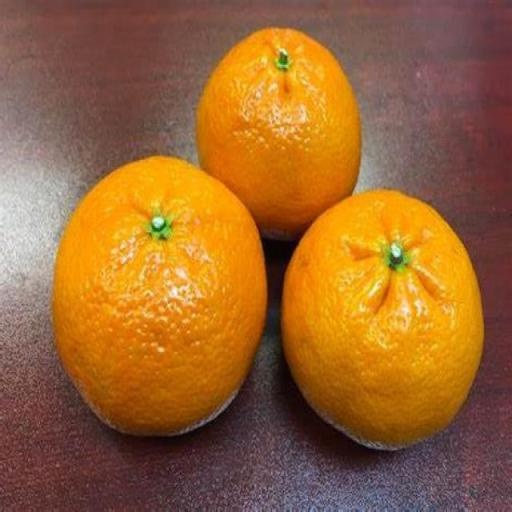fruit: (52, 157, 265, 435), (281, 191, 482, 448), (196, 28, 359, 237)
